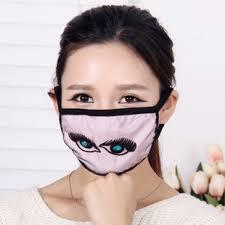OK: (58, 69, 160, 177)
